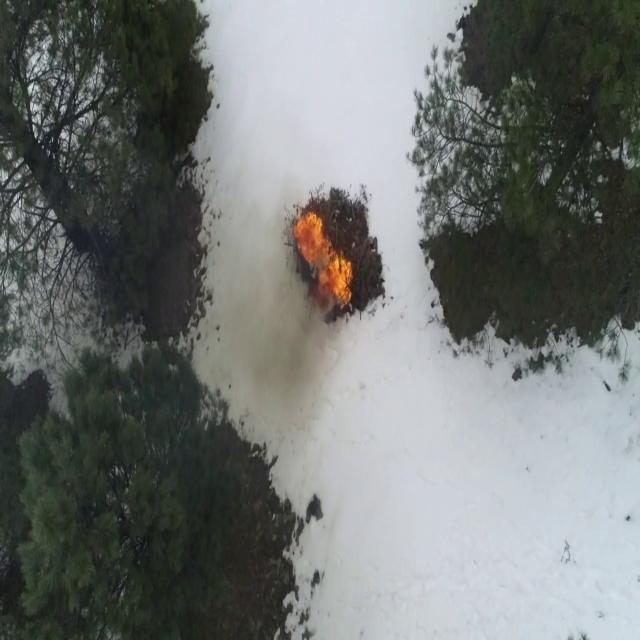fire: (296, 212, 351, 304)
